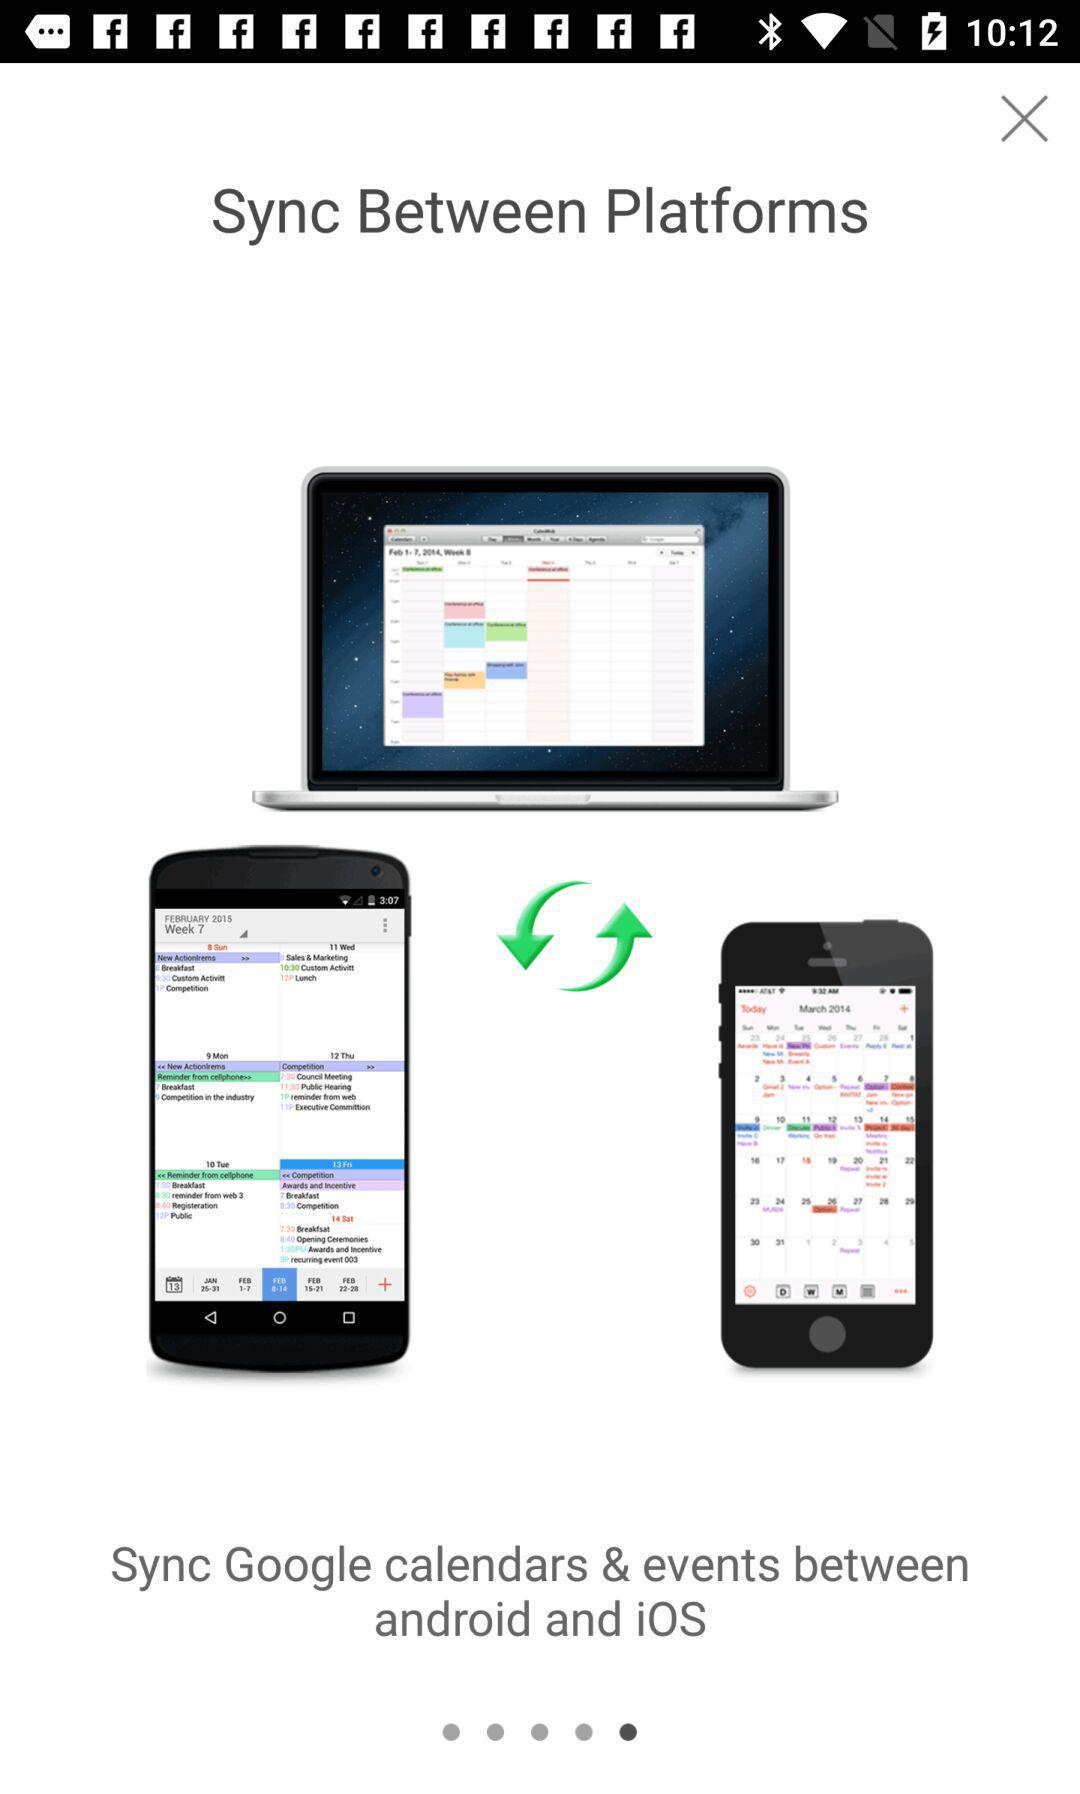Icon: (1001, 95, 1049, 145)
Image: (149, 465, 935, 1375)
PageIndicator: (442, 1721, 639, 1741)
Text: (111, 1544, 969, 1638), (213, 186, 869, 247)
UpperTaskBar: (1, 1, 1080, 64)
